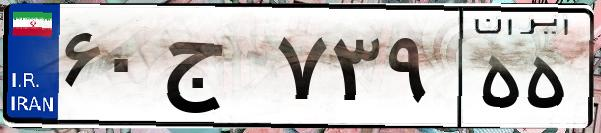0: (110, 28, 158, 98)
3: (330, 28, 385, 110)
5: (475, 38, 525, 113), (525, 38, 570, 115)
6: (57, 26, 110, 100)
7: (270, 28, 330, 110)
9: (385, 28, 445, 110)
ج: (158, 20, 270, 120)
